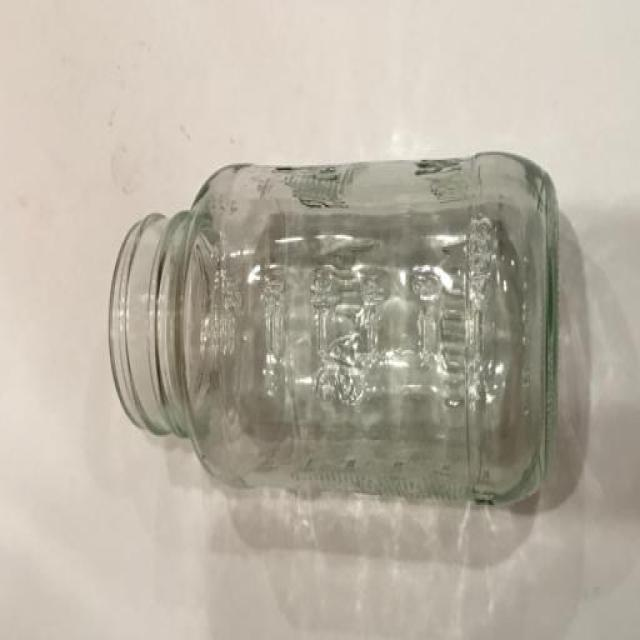Glass: (108, 150, 560, 508)
